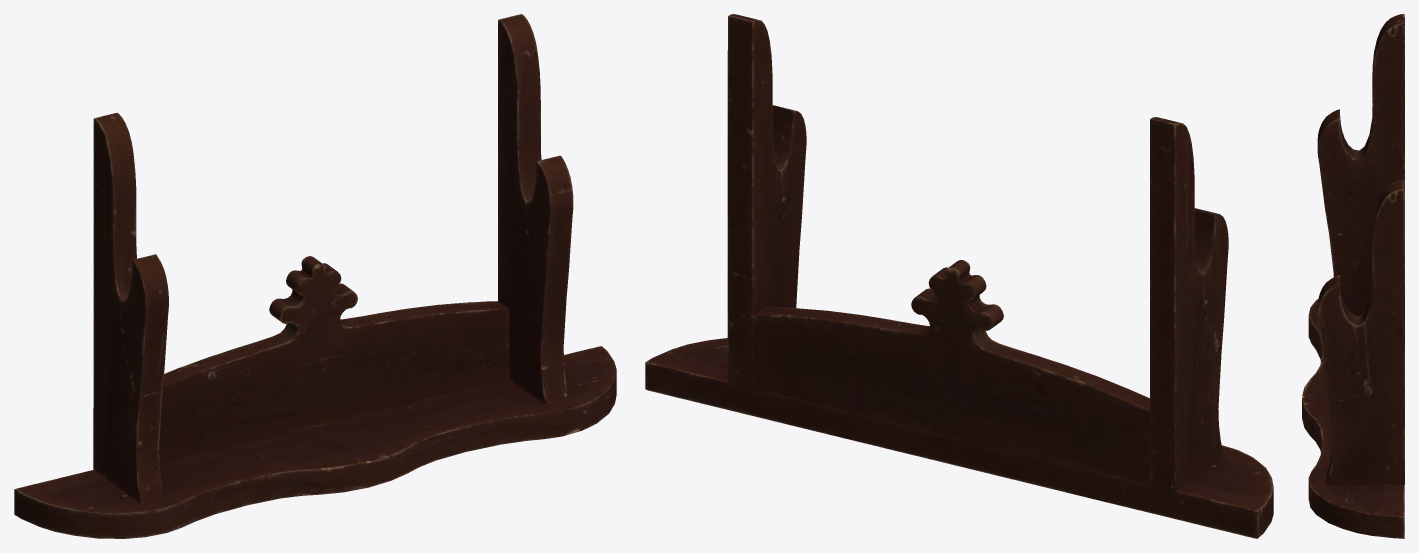
The model's file is katana_stand_01.glb.
3 renders of one model, left to right at view 1: azimuth 30°, elevation 25°; view 2: azimuth 150°, elevation 25°; view 3: azimuth 270°, elevation 25°, orthographic. The views are drawn at different scales.
Visible parts, largest first — view 1: katana_stand_01; view 2: katana_stand_01; view 3: katana_stand_01.
Part boxes in pixels (x1,y1,x2,y2): katana_stand_01: (14, 14, 616, 538); katana_stand_01: (645, 14, 1273, 538); katana_stand_01: (1302, 14, 1404, 538).
Size of the model in its own units: 0.2958 by 0.1819 by 0.0535.
Materials: 1 (1 with a texture image).
